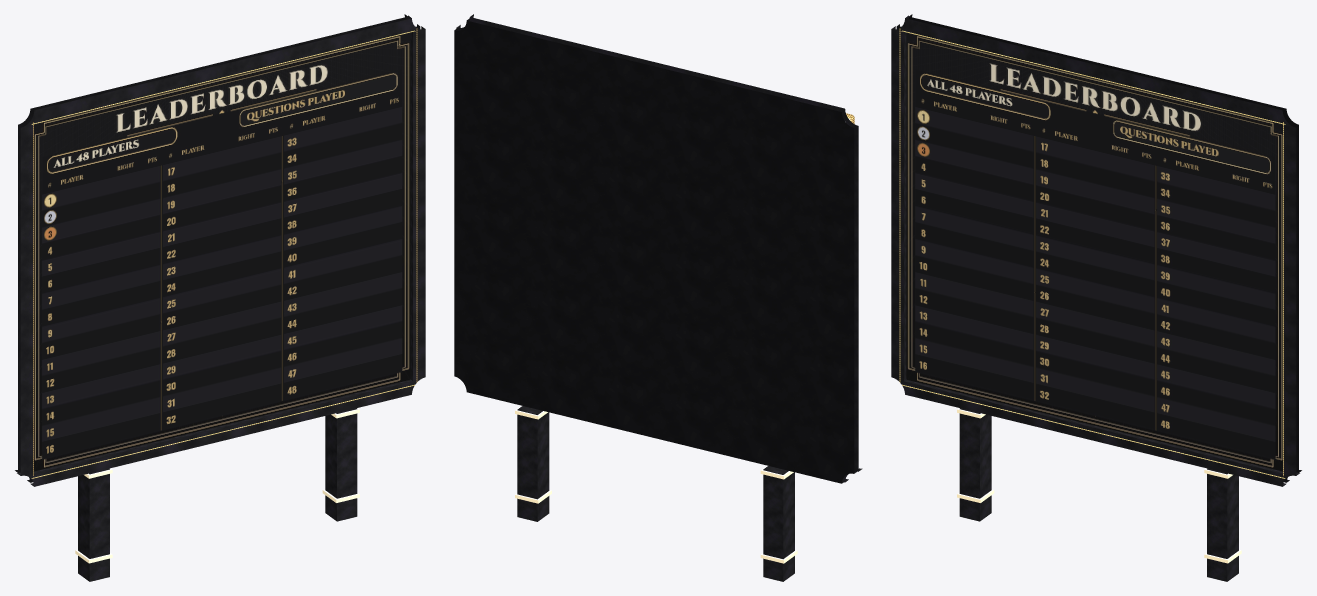
Rendered from mw_lboard_48.glb.
3 renders of one model, left to right at view 1: azimuth 30°, elevation 25°; view 2: azimuth 150°, elevation 25°; view 3: azimuth 330°, elevation 25°, orthographic.
Parts seen in each view (by area): view 1: lboard; view 2: lboard; view 3: lboard.
Boxes of the visible parts, x1,y1,x2,y2 form: lboard: (15,14,425,581); lboard: (454,14,862,581); lboard: (891,14,1301,581).
Size of the model in its own units: 18 by 20.6 by 1.06.
5 materials, 4 textured.
